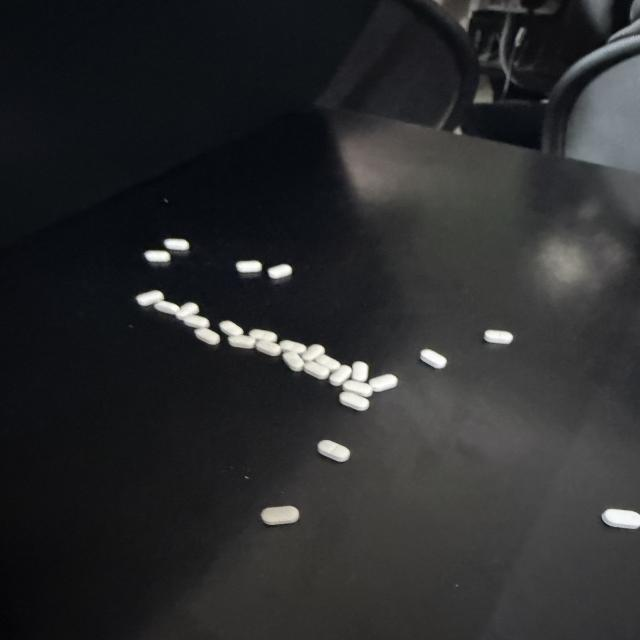pill: (602, 509, 639, 529), (261, 506, 299, 525), (318, 440, 350, 462), (339, 392, 369, 410), (421, 350, 447, 369), (343, 380, 372, 397), (369, 374, 398, 391), (304, 361, 330, 379), (329, 365, 351, 386), (282, 351, 304, 372), (136, 290, 164, 306), (195, 328, 220, 345), (316, 354, 340, 371), (484, 330, 513, 344), (256, 340, 281, 356), (176, 302, 199, 319), (301, 345, 324, 361), (280, 340, 306, 354), (249, 329, 277, 342), (268, 264, 292, 279), (228, 335, 255, 348), (154, 300, 179, 314), (236, 260, 262, 273), (352, 361, 368, 382), (219, 321, 243, 335), (144, 250, 170, 262), (183, 316, 209, 328), (164, 238, 189, 250)
